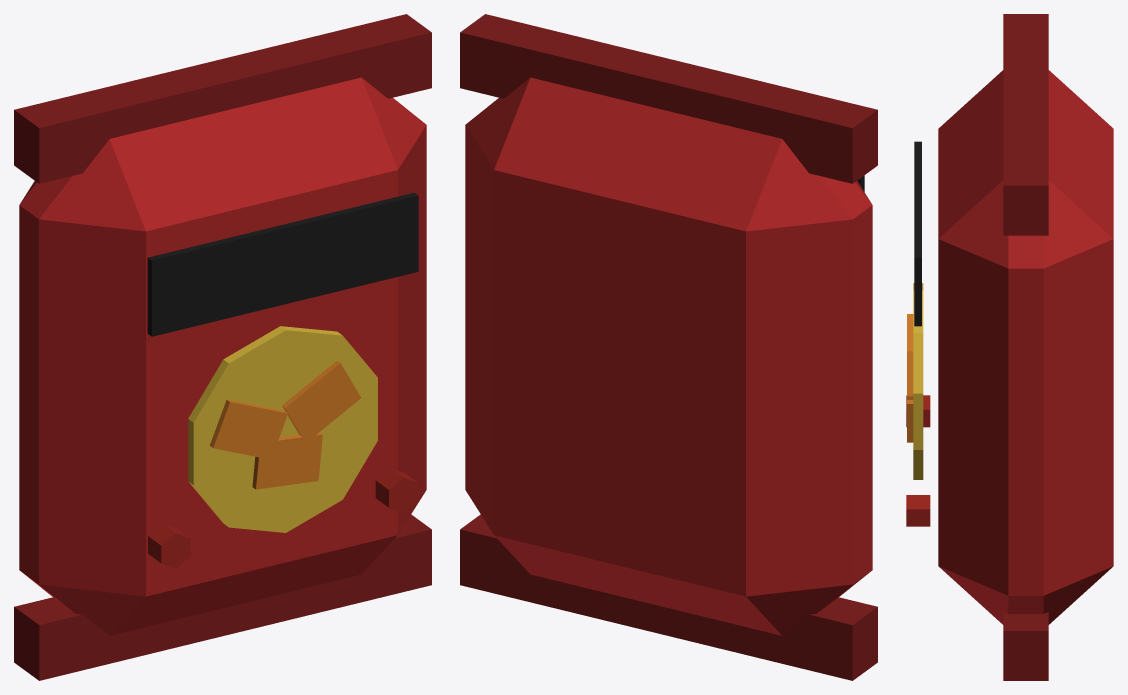
The model's file is hh_snack_cay.glb.
3 views of the same model, side by side, from view 1: azimuth 30°, elevation 25°; view 2: azimuth 150°, elevation 25°; view 3: azimuth 270°, elevation 25° (orthographic). The views are drawn at different scales.
Visible parts, largest first — view 1: hh_snack_cay; view 2: hh_snack_cay; view 3: hh_snack_cay.
Part boxes in pixels (x1,y1,x2,y2): hh_snack_cay: (14, 14, 431, 680); hh_snack_cay: (460, 14, 877, 680); hh_snack_cay: (906, 14, 1113, 680).
Bounding box in the file's own units: 0.162 × 0.218 × 0.0828.
